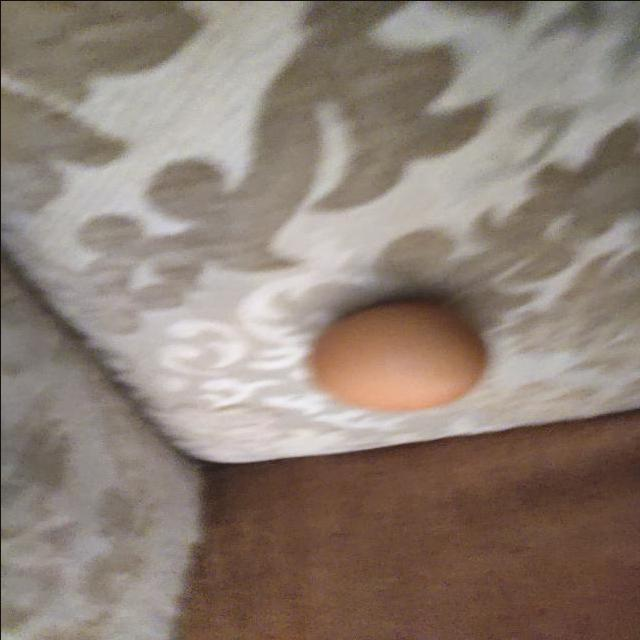egg: (309, 302, 485, 414)
